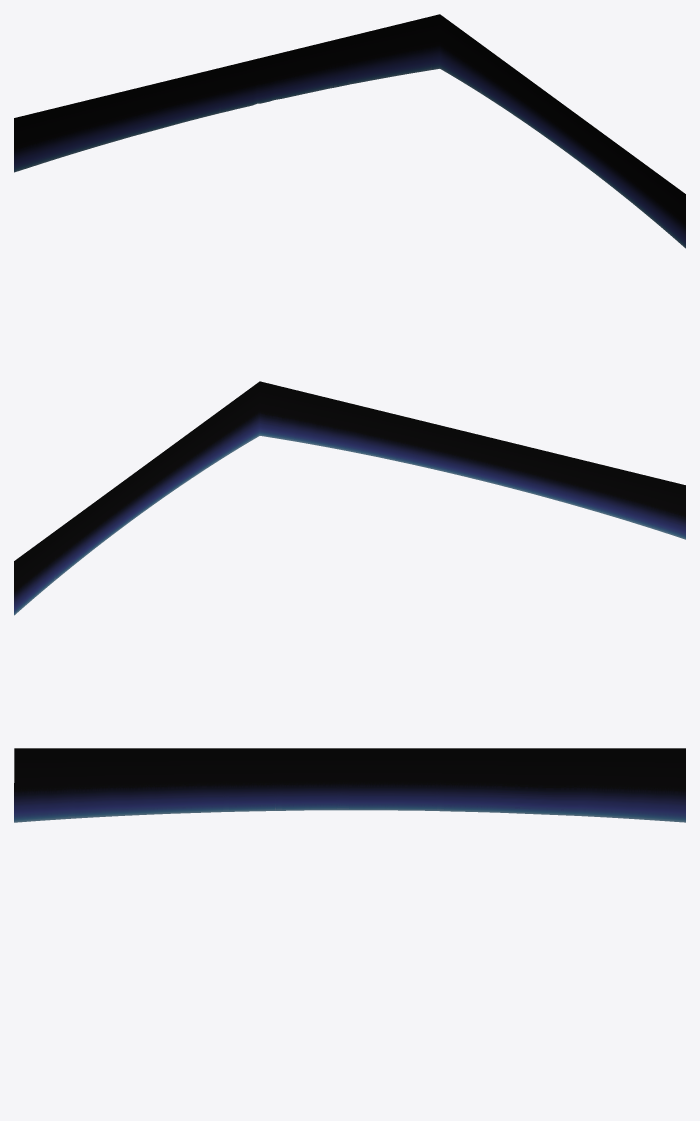
3 renders of one model, top to bottom at view 1: azimuth 30°, elevation 25°; view 2: azimuth 150°, elevation 25°; view 3: azimuth 270°, elevation 25°, orthographic. The views are drawn at different scales.
Parts seen in each view (by area): view 1: Joint_0_Object_0; view 2: Joint_0_Object_0; view 3: Joint_0_Object_0.
Part boxes in pixels (x1=…): Joint_0_Object_0: x1=14, y1=14, x2=685, y2=248; Joint_0_Object_0: x1=14, y1=381, x2=685, y2=615; Joint_0_Object_0: x1=14, y1=748, x2=685, y2=822.
Bounding box in the file's own units: 10000 × 1225 × 10000.
1 material, 1 textured.
